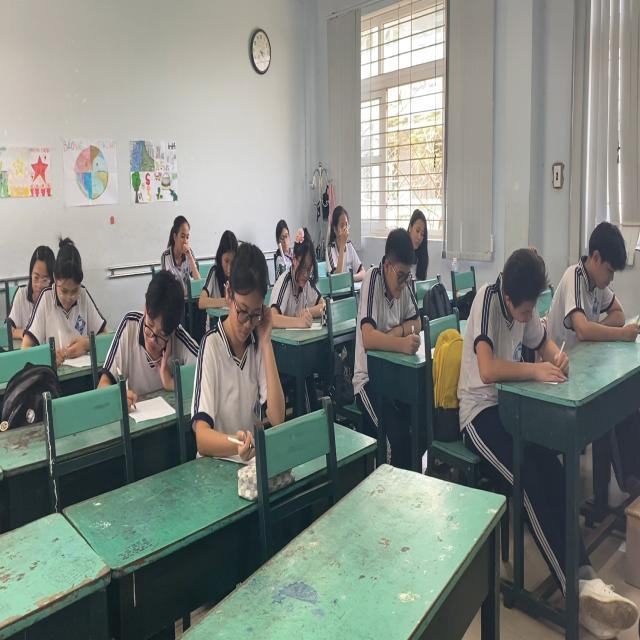not_cheating: (200, 229, 282, 427), (468, 242, 565, 371), (115, 268, 195, 384), (570, 216, 640, 348), (32, 233, 108, 348), (363, 226, 417, 357), (267, 225, 317, 328), (158, 212, 202, 289), (321, 206, 364, 276), (402, 203, 428, 249)
